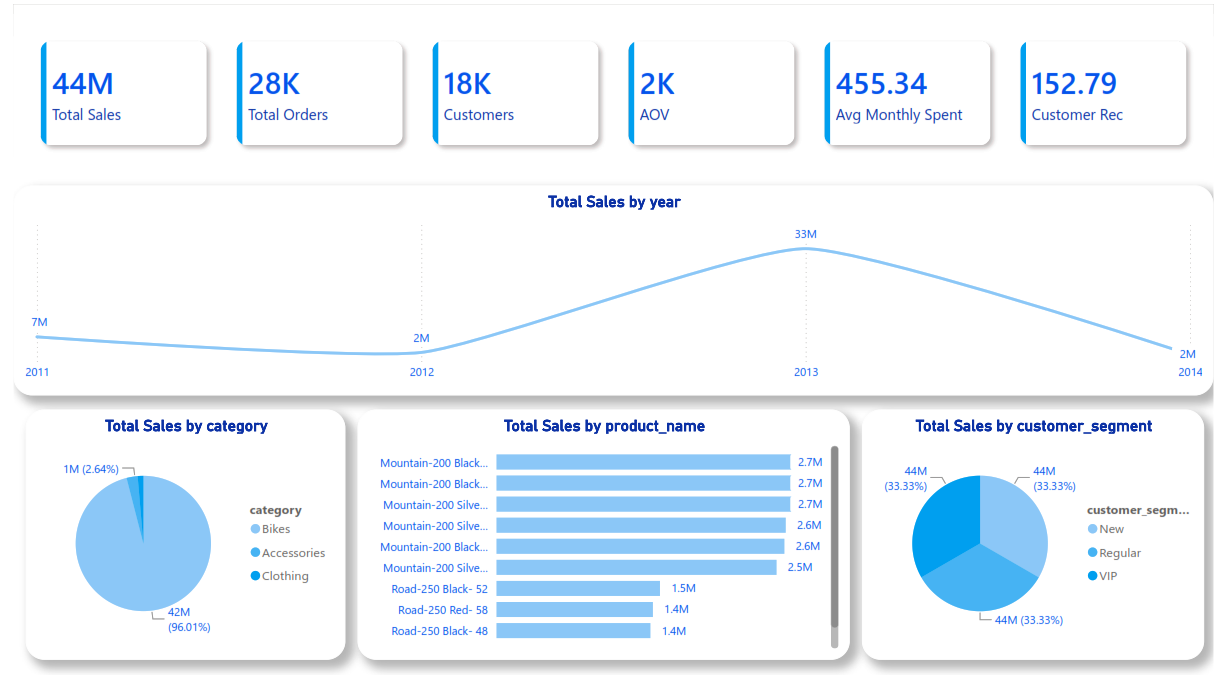

Layout of this report page (visuals, bound fields, positions):
{"tool":"powerbi","page":{"name":"Sales Analysis","canvas":[1280,720],"ordinal":1},"visuals":[{"type":"cardVisual","fields":{"Data":["gold report_customer.Total Sales","gold report_customer.Total Orders","gold report_customer.Total Quantity","gold report_customer.Customers","gold report_customer.AOV","gold report_customer.Avg Monthly Spent","gold report_customer.Customer Rec"]},"box":[0,0,1280.3,192.3],"z":0},{"type":"lineChart","fields":{"Y":["gold report_customer.Total Sales"],"Category":["calendar.year"]},"box":[0,192.8,1280.3,224],"z":1000},{"type":"pieChart","fields":{"Y":["gold report_customer.Total Sales"],"Category":["gold report_products.category"]},"box":[12.8,432.4,341.7,266.5],"z":2000},{"type":"clusteredBarChart","fields":{"Category":["gold report_products.product_name"],"Y":["gold report_customer.Total Sales"]},"box":[367.2,432.4,524.6,266.5],"z":3000},{"type":"pieChart","fields":{"Category":["gold report_customer.customer_segment"],"Y":["gold report_customer.Total Sales"]},"box":[904.6,432.4,365.8,266.5],"z":4000},{"type":"cardVisual","fields":{"Data":["gold report_customer.Total Sales","gold report_customer.Total Orders","gold report_customer.Customers","gold report_customer.AOV","gold report_customer.Avg Monthly Spent","gold report_customer.Customer Rec"]},"box":[0,10,1280.3,169.5],"z":4001}]}

Visuals, with their boxes in screenshot pixels (x1, y1, x2, y2), scaled from the page's 1280x720 canvas onto the 1227x675 screenshot:
cardVisual - gold report_customer.Total Sales x gold report_customer.Total Orders: (left=0, top=0, right=1226, bottom=180)
lineChart - gold report_customer.Total Sales x calendar.year: (left=0, top=181, right=1226, bottom=391)
pieChart - gold report_customer.Total Sales x gold report_products.category: (left=12, top=405, right=340, bottom=655)
clusteredBarChart - gold report_products.product_name x gold report_customer.Total Sales: (left=352, top=405, right=855, bottom=655)
pieChart - gold report_customer.customer_segment x gold report_customer.Total Sales: (left=867, top=405, right=1218, bottom=655)
cardVisual - gold report_customer.Total Sales x gold report_customer.Total Orders: (left=0, top=9, right=1226, bottom=168)
